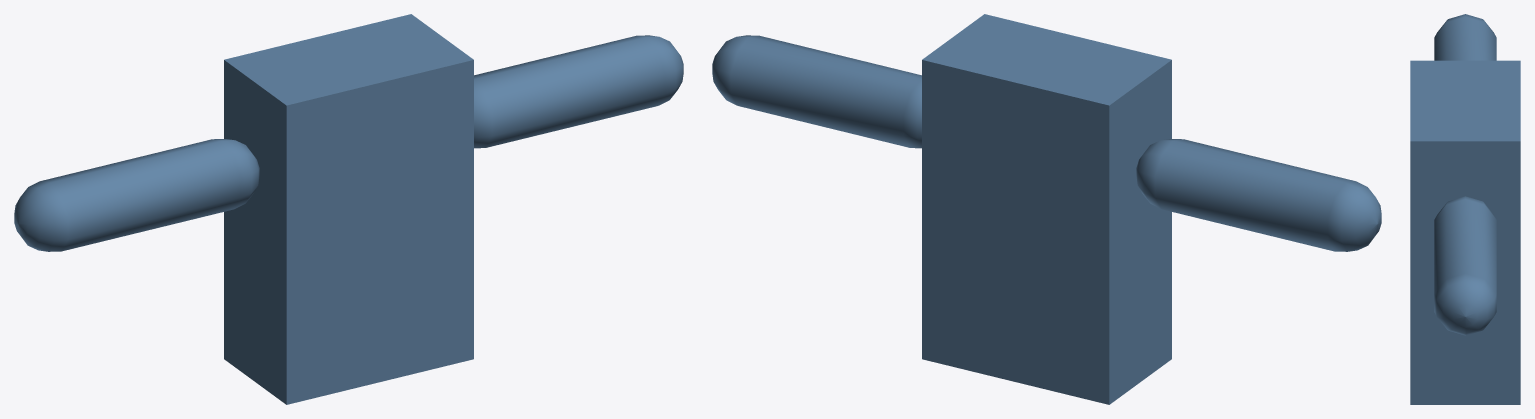
File: navy-jacket.glb
3 views of the same model, side by side, from view 1: azimuth 30°, elevation 25°; view 2: azimuth 150°, elevation 25°; view 3: azimuth 270°, elevation 25° (orthographic). The views are drawn at different scales.
Visible parts, largest first — view 1: navy_jacket_torso, navy_jacket_sleeve_L, navy_jacket_sleeve_R; view 2: navy_jacket_torso, navy_jacket_sleeve_L, navy_jacket_sleeve_R; view 3: navy_jacket_torso, navy_jacket_sleeve_R, navy_jacket_sleeve_L.
Part boxes in pixels (left/top/right/bottom): navy_jacket_torso: left=224, top=14, right=473, bottom=404; navy_jacket_sleeve_L: left=14, top=139, right=259, bottom=251; navy_jacket_sleeve_R: left=474, top=35, right=683, bottom=148; navy_jacket_torso: left=922, top=14, right=1171, bottom=404; navy_jacket_sleeve_L: left=1136, top=139, right=1381, bottom=251; navy_jacket_sleeve_R: left=712, top=35, right=921, bottom=148; navy_jacket_torso: left=1410, top=60, right=1520, bottom=404; navy_jacket_sleeve_R: left=1434, top=196, right=1496, bottom=335; navy_jacket_sleeve_L: left=1434, top=14, right=1496, bottom=60.
Bounding box in the file's own units: 1.34 × 0.58 × 0.22.
